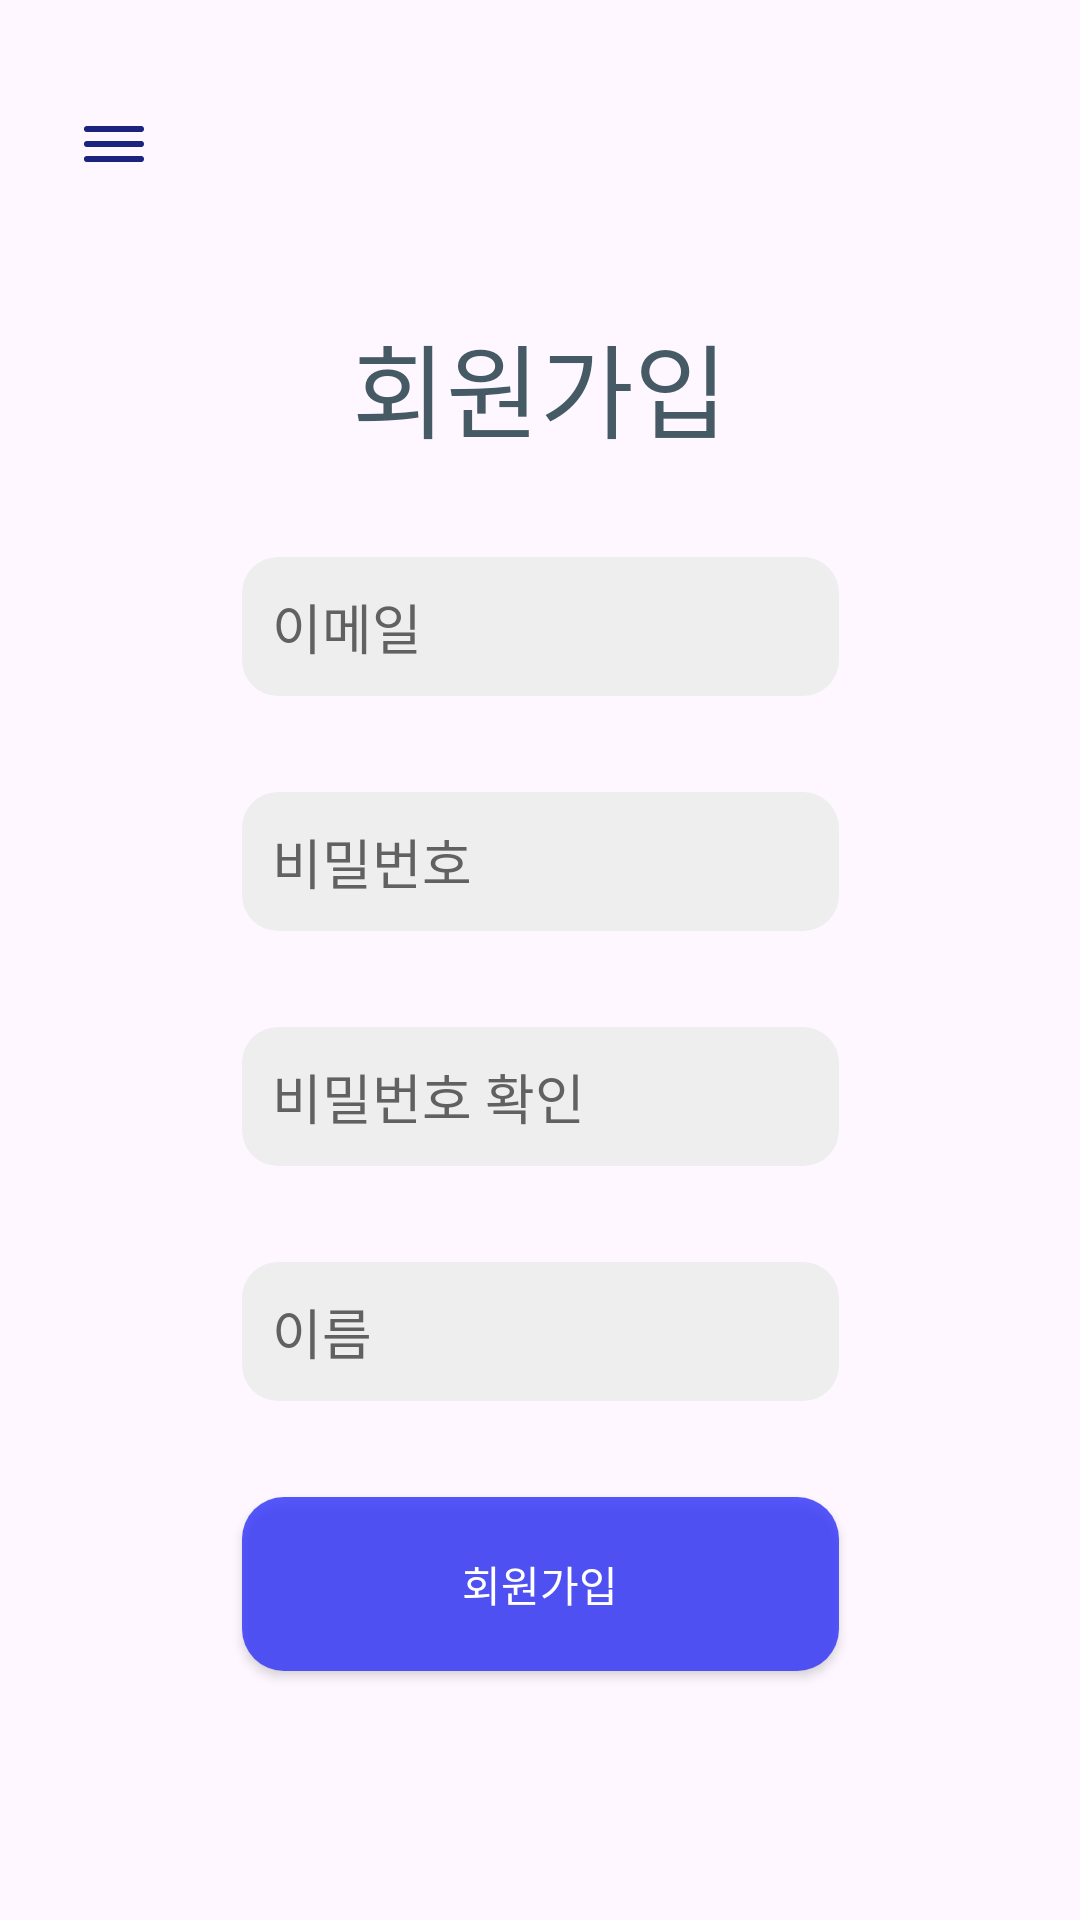

Where icons sit on this 1080px×1920px app screen, as (x1, y1, x2, y2):
bars: (84, 126, 144, 162)
